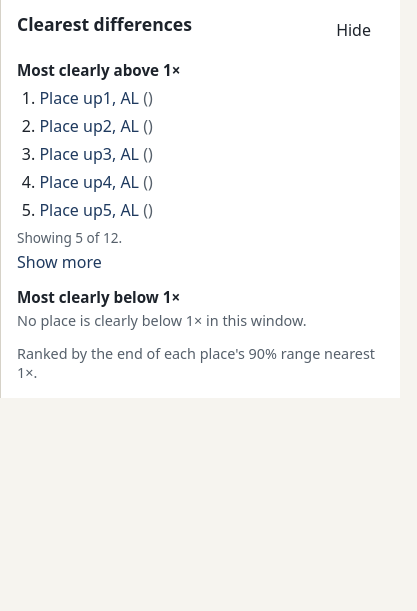
Test case: Clearest differences: Show more › goes back to five with Show fewer, and focus stays on the list's button
Click the button "Show more": [59, 262] box [17,249,102,275]
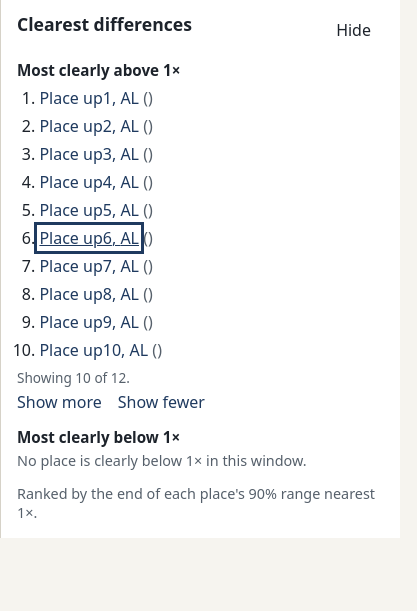
Click the button "Show more": [59, 402] box [17,389,102,415]
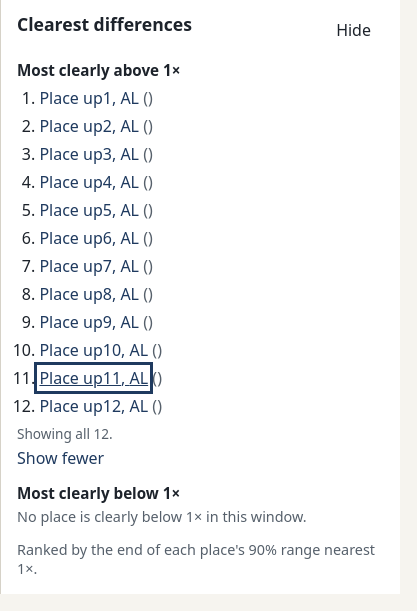
Click the button "Show fewer": [61, 458] box [17,445,104,471]
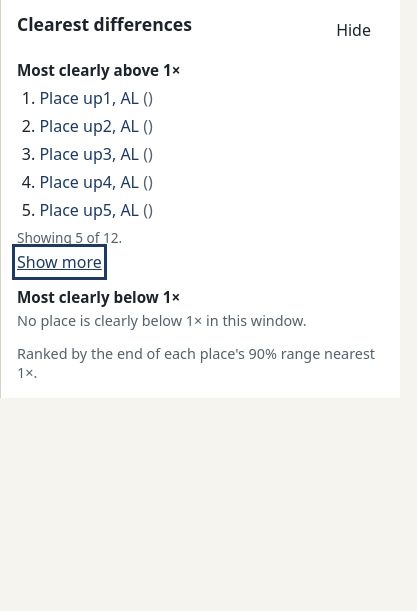
Expected: the element "Most clearly above 1×" shows "Showing 5 of 12.", [17,228,122,247]
Expected: the button "Show fewer" is gone
